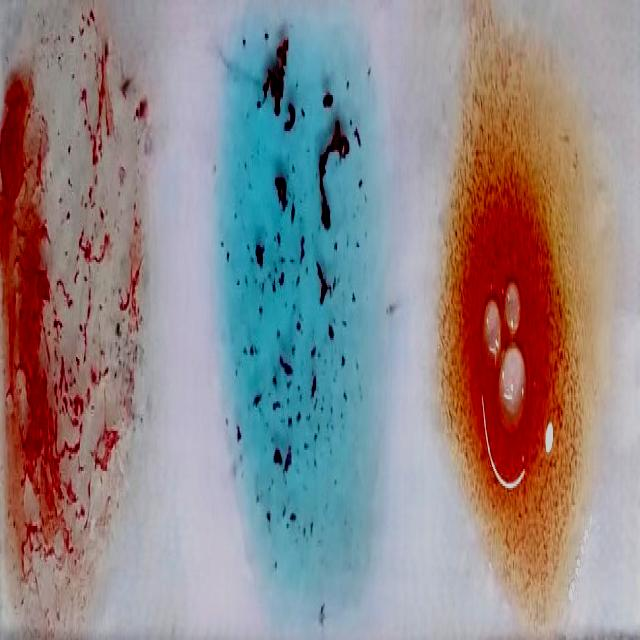A: (218, 1, 380, 614)
B: (450, 22, 595, 605)
D: (0, 9, 141, 636)
